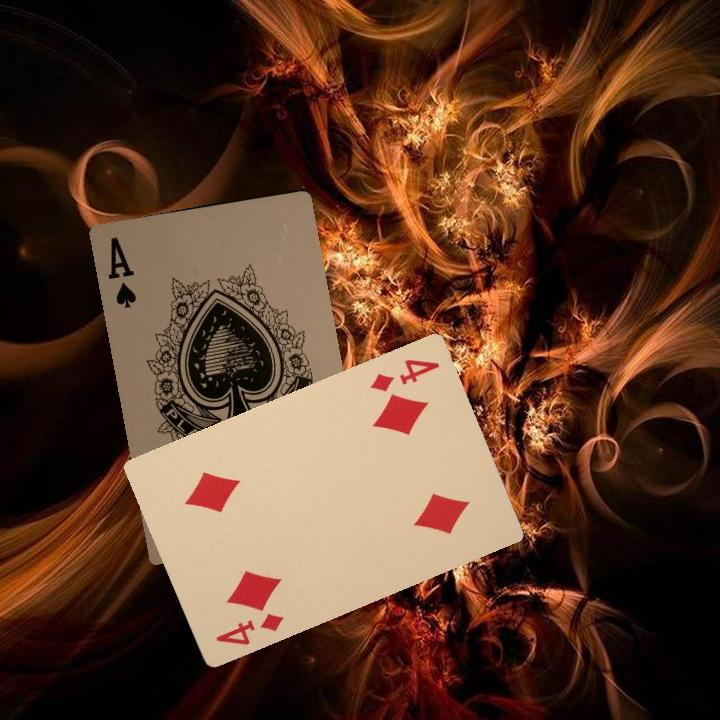4d: (366, 354, 442, 395), (212, 609, 286, 648)
As: (104, 233, 139, 311)
